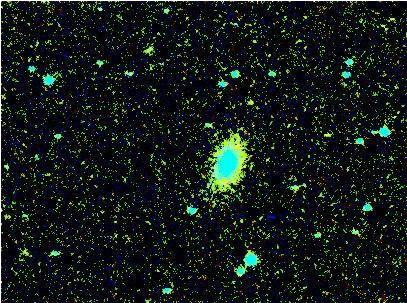star: (223, 204, 253, 234)
